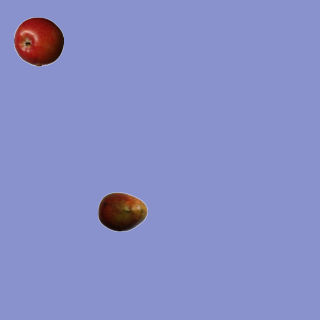Apple Braeburn: (13, 16, 63, 66)
Mango Red: (97, 186, 147, 236)
